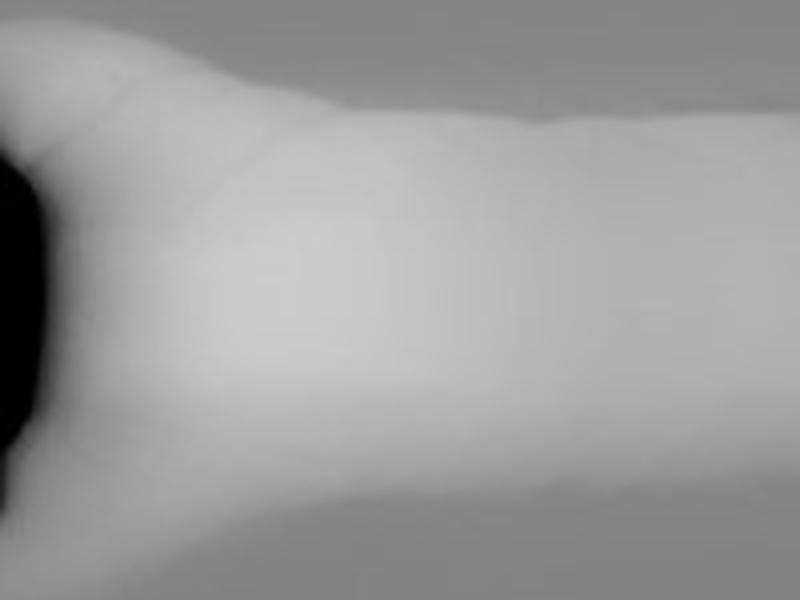defect: (1, 154, 51, 451)
